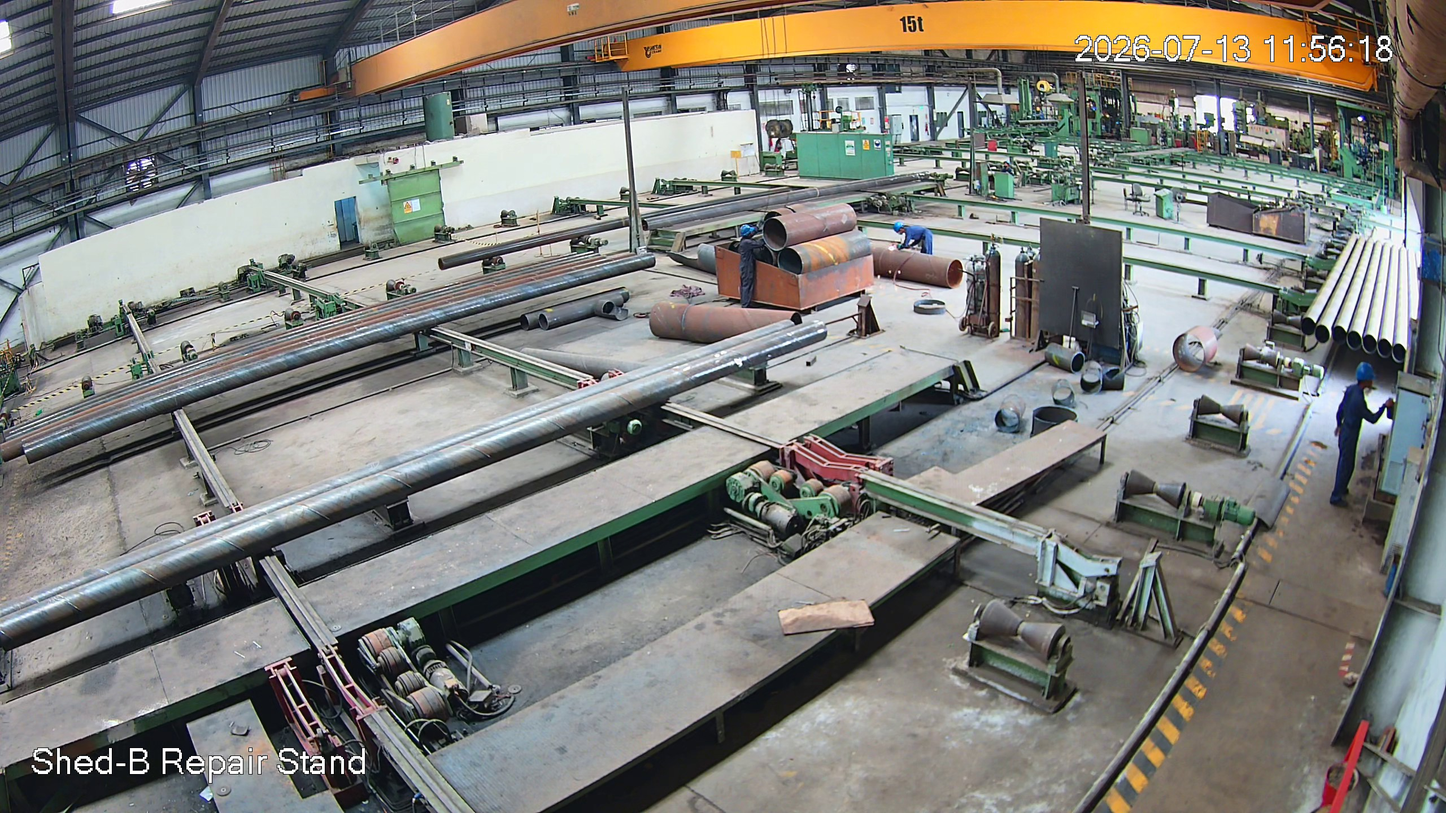Helmet: (739, 223, 761, 242)
Person: (736, 227, 757, 310)
